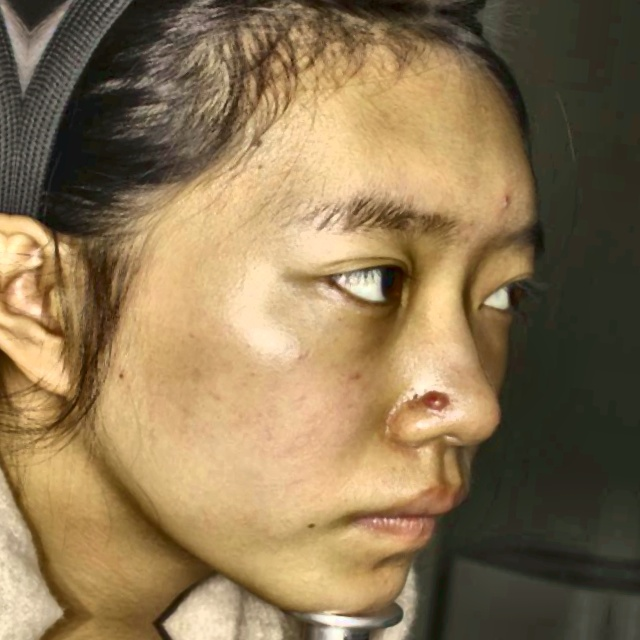comedone: (419, 380, 455, 415), (484, 188, 521, 215)
